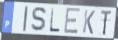E: (63, 7, 82, 36)
I: (22, 5, 29, 33)
K: (82, 9, 96, 35)
L: (48, 8, 61, 34)
S: (30, 6, 48, 34)
T: (100, 9, 113, 36)
